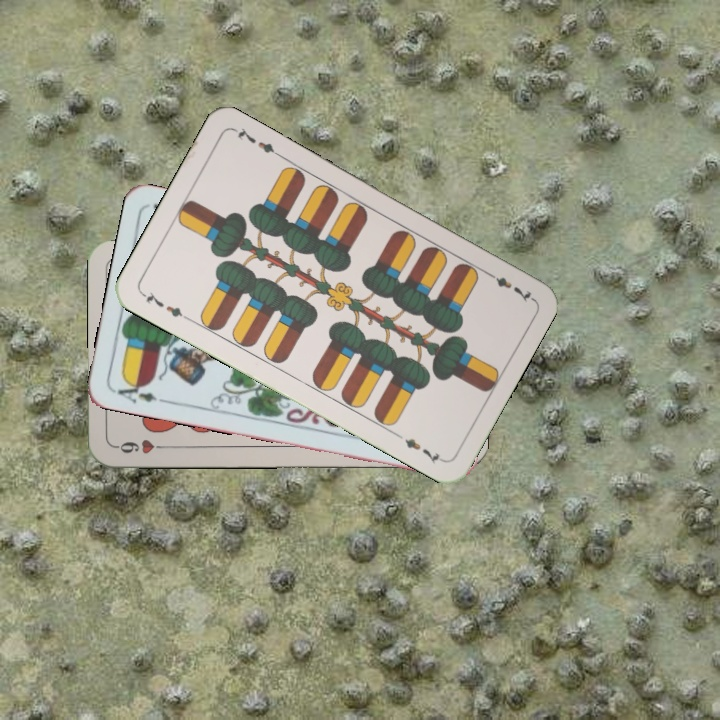E7: (481, 267, 535, 305), (137, 287, 192, 323)
EA: (111, 376, 160, 406)
H9: (113, 435, 172, 456)
